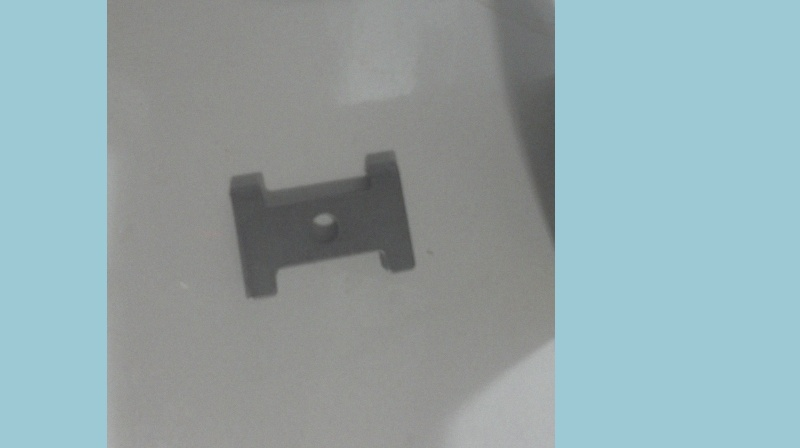O002: (228, 160, 419, 299)
